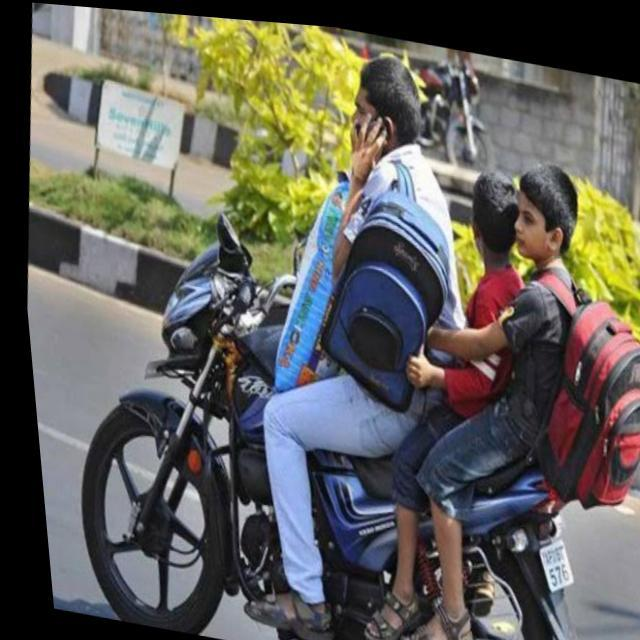Nonhelmet: (345, 39, 428, 163), (507, 156, 589, 265), (466, 167, 518, 264)
